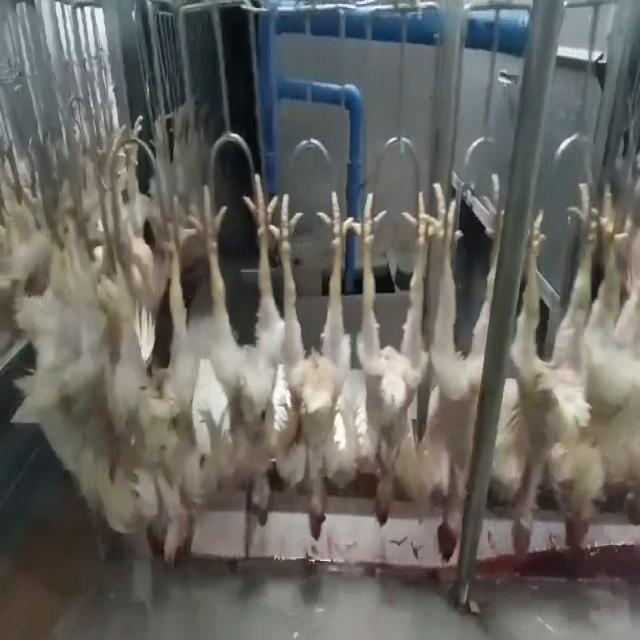chicken: (500, 180, 589, 564), (425, 176, 504, 564), (566, 178, 638, 560), (275, 186, 349, 541), (356, 192, 432, 533), (206, 169, 274, 535), (141, 187, 202, 572)
